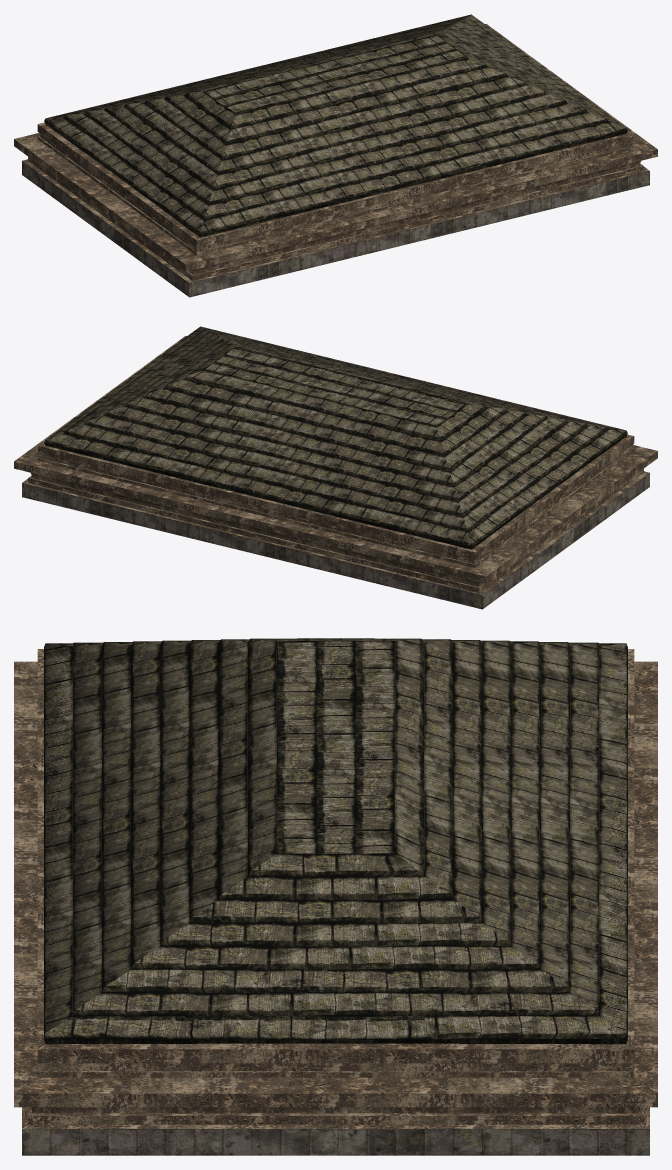
The model's file is materials_5_roof_0.fbx.
3 renders of one model, top to bottom at view 1: azimuth 30°, elevation 25°; view 2: azimuth 150°, elevation 25°; view 3: azimuth 270°, elevation 25°, orthographic. The views are drawn at different scales.
Visible parts, largest first — view 1: materials_5_roof_0; view 2: materials_5_roof_0; view 3: materials_5_roof_0.
Part boxes in pixels (<box>): materials_5_roof_0: <box>14,14,657,297</box>; materials_5_roof_0: <box>14,326,657,609</box>; materials_5_roof_0: <box>14,638,657,1155</box>.
Size of the model in its own units: 1024 by 227 by 645.
